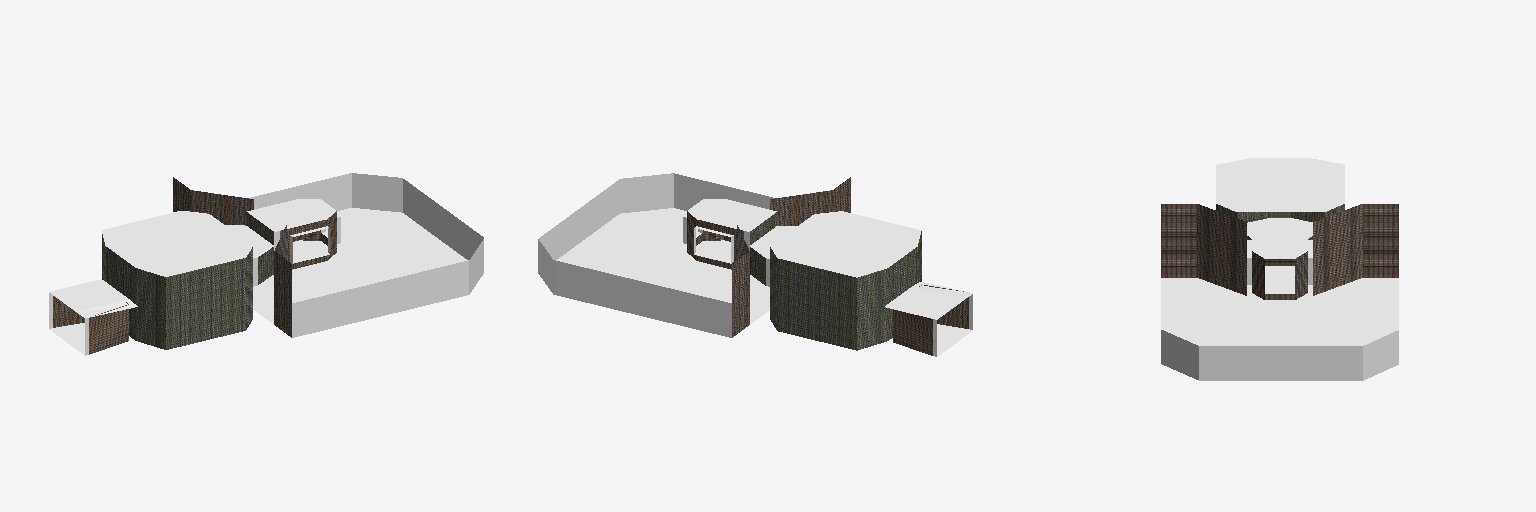
3 renders of one model, left to right at view 1: azimuth 30°, elevation 25°; view 2: azimuth 150°, elevation 25°; view 3: azimuth 270°, elevation 25°, orthographic.
Parts seen in each view (by area): view 1: l1_geo01; view 2: l1_geo01; view 3: l1_geo01.
Part boxes in pixels (x1,y1,x2,y2): l1_geo01: (49,173,483,355); l1_geo01: (538,173,972,356); l1_geo01: (1161,158,1398,380).
Size of the model in its own units: 85 by 17.75 by 46.5.
Materials: 13 (2 with a texture image).